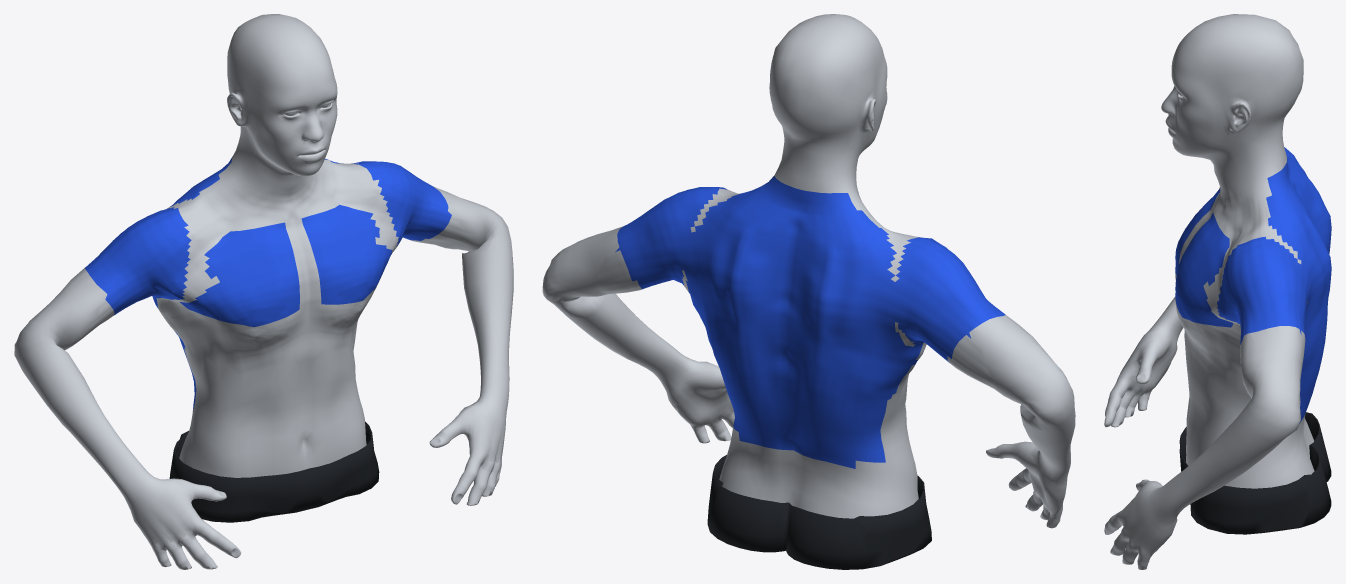
The model's file is workout-upper.glb.
The picture shows the model from 3 angles, left to right: view 1: azimuth 30°, elevation 25°; view 2: azimuth 150°, elevation 25°; view 3: azimuth 270°, elevation 25°; orthographic projection. The views are drawn at different scales.
Visible parts, largest first — view 1: SM_Athlete_Body; view 2: SM_Athlete_Body; view 3: SM_Athlete_Body.
Boxes of the visible parts, x1,y1,x2,y2 form: SM_Athlete_Body: (14, 14, 513, 569); SM_Athlete_Body: (542, 14, 1075, 569); SM_Athlete_Body: (1104, 14, 1331, 569).
Size of the model in its own units: 2 by 1.83 by 0.8057.
